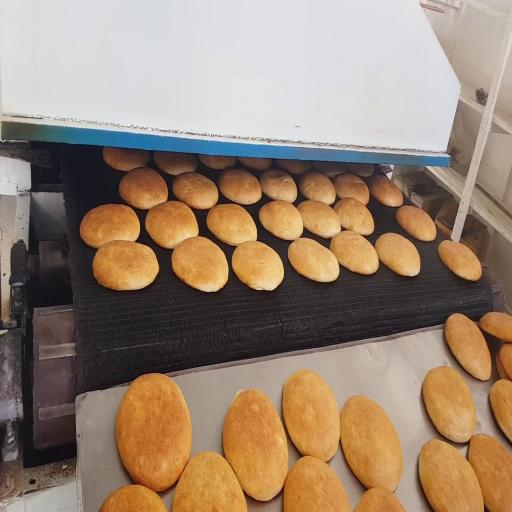bread: (116, 374, 191, 491), (223, 390, 288, 501), (341, 396, 403, 491), (283, 369, 339, 461), (419, 439, 483, 511), (172, 451, 247, 511), (422, 366, 476, 442), (284, 457, 350, 511), (468, 434, 511, 511), (93, 241, 159, 290), (444, 314, 491, 380), (172, 237, 228, 292), (80, 204, 139, 248), (232, 241, 283, 290), (146, 201, 198, 248), (288, 238, 339, 282), (207, 204, 257, 246), (330, 231, 378, 274), (119, 168, 168, 210), (375, 233, 420, 276), (438, 240, 481, 281), (99, 485, 166, 511), (259, 201, 303, 240), (297, 200, 341, 238), (172, 173, 218, 209), (218, 169, 261, 204), (334, 198, 374, 235), (396, 206, 436, 241), (490, 380, 511, 441), (354, 487, 405, 511), (260, 169, 297, 202), (300, 171, 335, 204), (334, 173, 369, 205), (103, 147, 149, 171), (370, 176, 403, 207), (154, 152, 197, 175), (479, 312, 511, 342), (198, 155, 236, 170), (313, 162, 346, 177), (238, 157, 272, 171), (277, 160, 311, 174), (499, 344, 511, 377), (345, 163, 373, 177), (496, 353, 510, 380)
